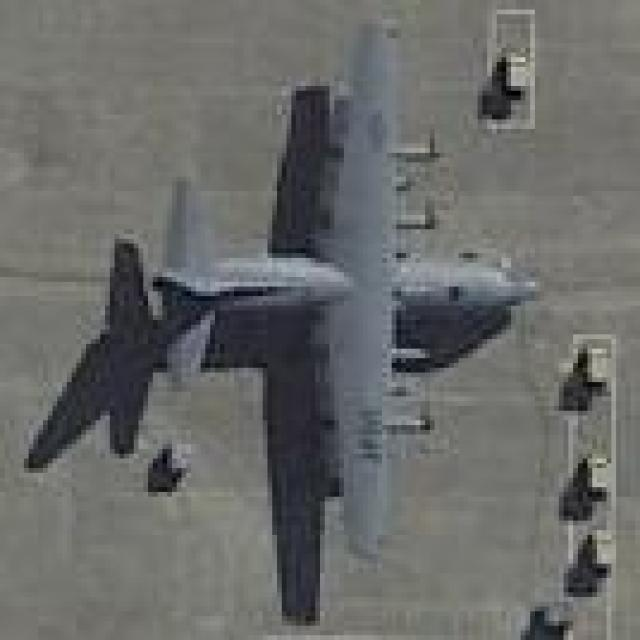C-130_TopDown: (25, 15, 549, 627)
